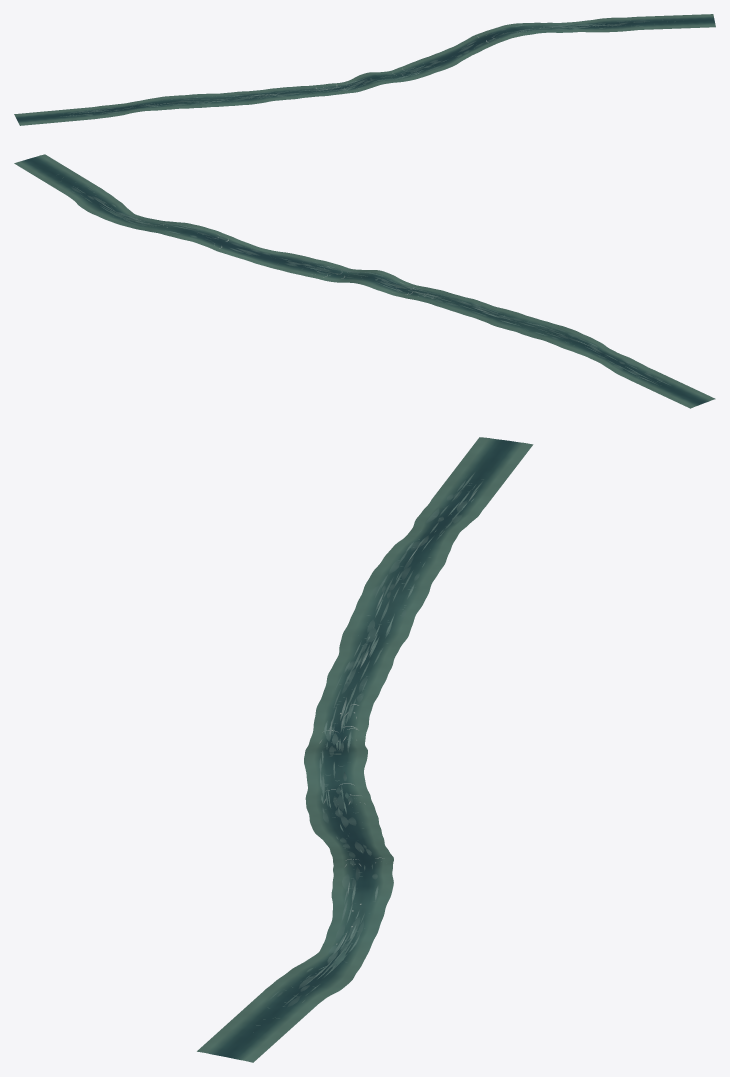
Rendered from river.glb.
3 views of the same model, one above another, from view 1: azimuth 30°, elevation 25°; view 2: azimuth 150°, elevation 25°; view 3: azimuth 270°, elevation 25° (orthographic). The views are drawn at different scales.
Visible parts, largest first — view 1: River_Water, River_Flow; view 2: River_Water, River_Flow; view 3: River_Water, River_Flow.
Boxes of the visible parts, x1,y1,x2,y2 form: River_Water: (14,14,715,125); River_Flow: (60,19,675,116); River_Water: (14,154,715,408); River_Flow: (58,174,670,385); River_Water: (197,437,533,1062); River_Flow: (253,472,483,1032).
Bounding box in the file's own units: 132 × 2.33 × 30.24.
